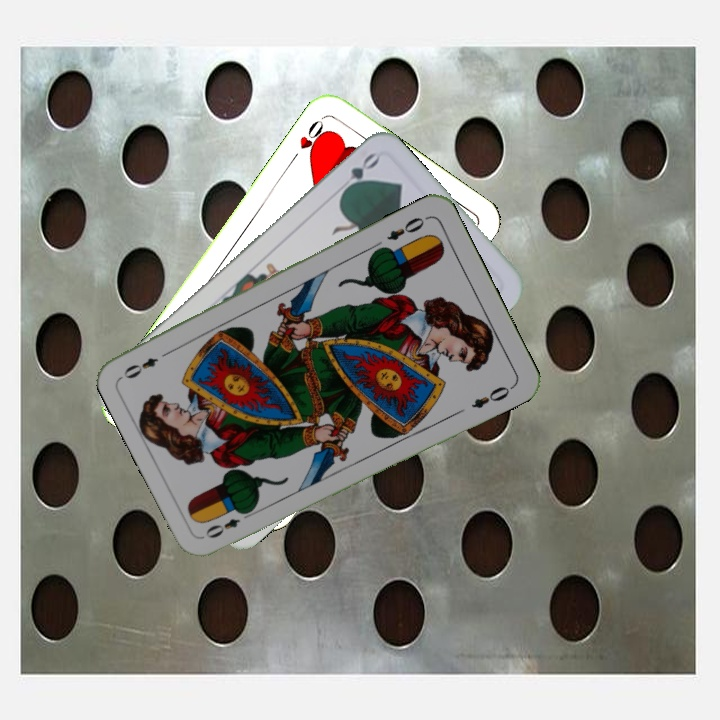EO: (201, 507, 255, 541), (382, 213, 427, 243)
GO: (332, 149, 382, 199)
HO: (286, 113, 331, 165)
